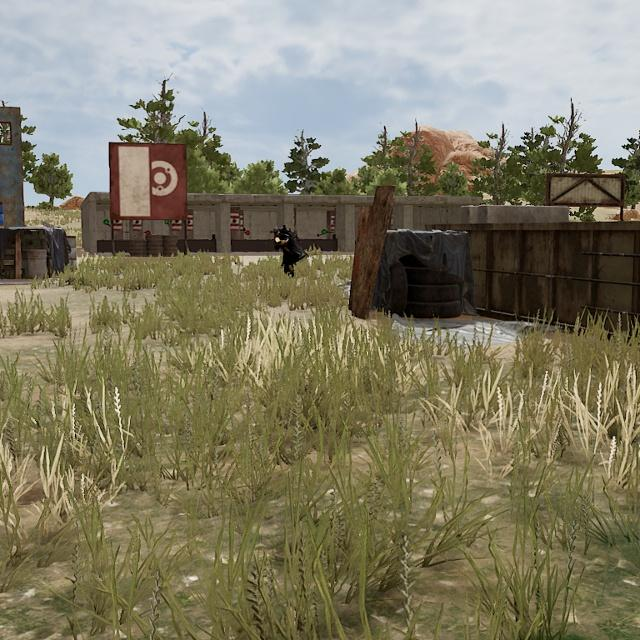head: (272, 227, 283, 237)
people: (272, 226, 301, 279)
